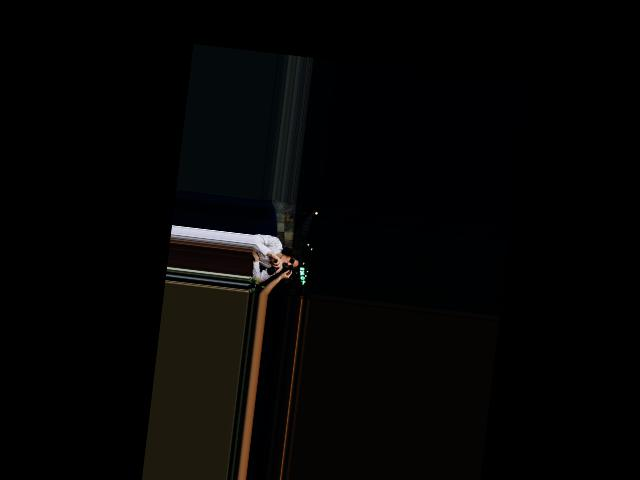beer: (265, 261, 286, 277)
